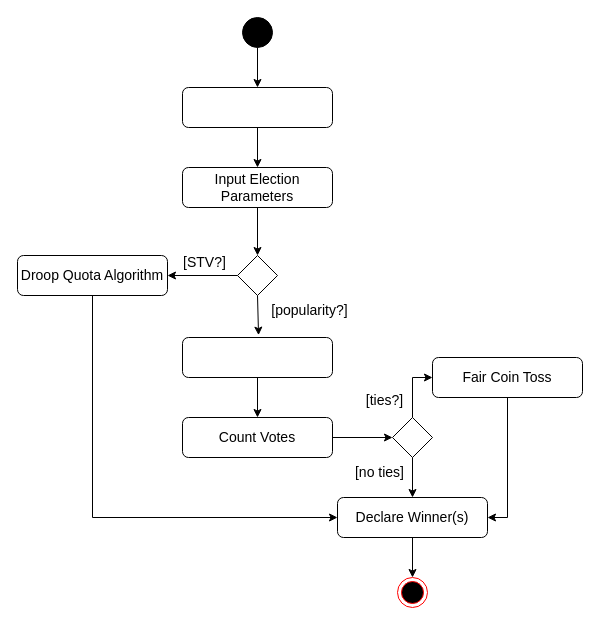
This 600x625 diagram has some shape labels left out. The shapes that lost their labels are listed below. From the top down, each one's centre as x and y in pixels, then its label:
At (257,107): "Election has been set for a given date".
At (257,357): "Load Ballots".
